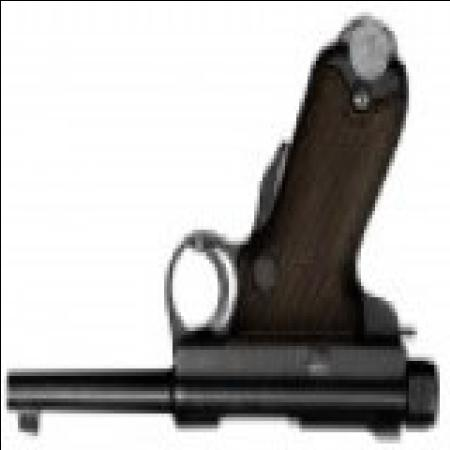Pistol: (2, 19, 430, 442)
